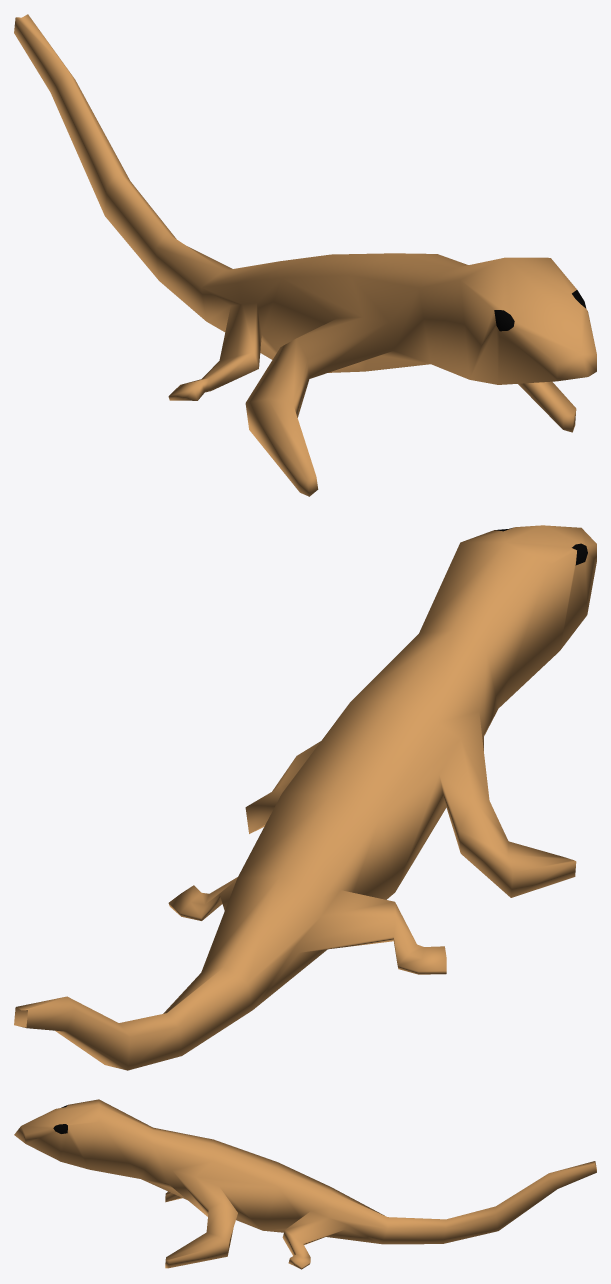
The model's file is Lizard_Mdl.fbx.
3 views of the same model, one above another, from view 1: azimuth 30°, elevation 25°; view 2: azimuth 150°, elevation 25°; view 3: azimuth 270°, elevation 25° (orthographic). The views are drawn at different scales.
Parts seen in each view (by area): view 1: Cube; view 2: Cube; view 3: Cube.
Boxes of the visible parts, x1,y1,x2,y2 form: Cube: [14, 14, 596, 496]; Cube: [14, 525, 596, 1070]; Cube: [14, 1099, 596, 1269].
Bounding box in the file's own units: 5.65 × 5.15 × 19.95.
